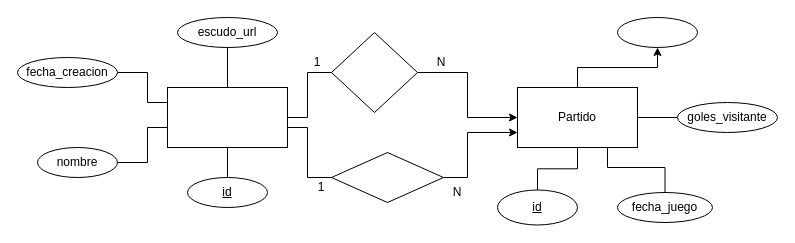
The diagram is 795 pixels wide and 243 high, and some of its shapes have lost their labels. The centre of each missing label's shape, as x and y in pixels:
Equipo: the point at 227,117
goles_local: the point at 657,32
juega_local: the point at 374,72
juega_visitante: the point at 387,177
